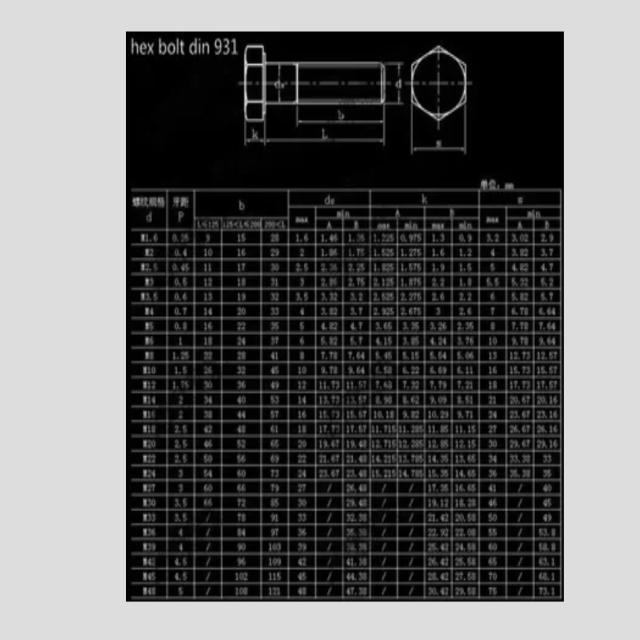marking_line: (263, 123, 387, 147), (295, 106, 386, 128), (409, 122, 468, 155), (385, 61, 404, 106), (243, 122, 267, 146)
numeric: (222, 37, 230, 56), (232, 38, 239, 56), (216, 38, 222, 55)
